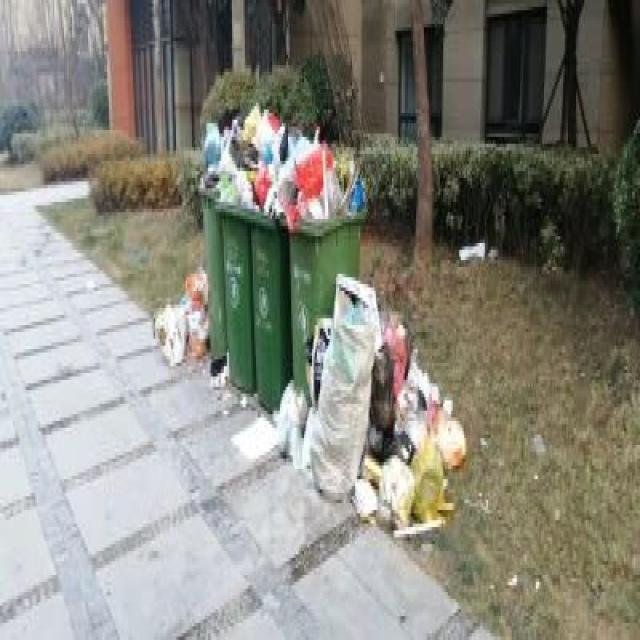garbage: (227, 270, 467, 534), (150, 260, 208, 363)
overflow: (288, 123, 365, 387), (248, 110, 290, 408), (213, 99, 254, 387), (195, 106, 224, 353)
